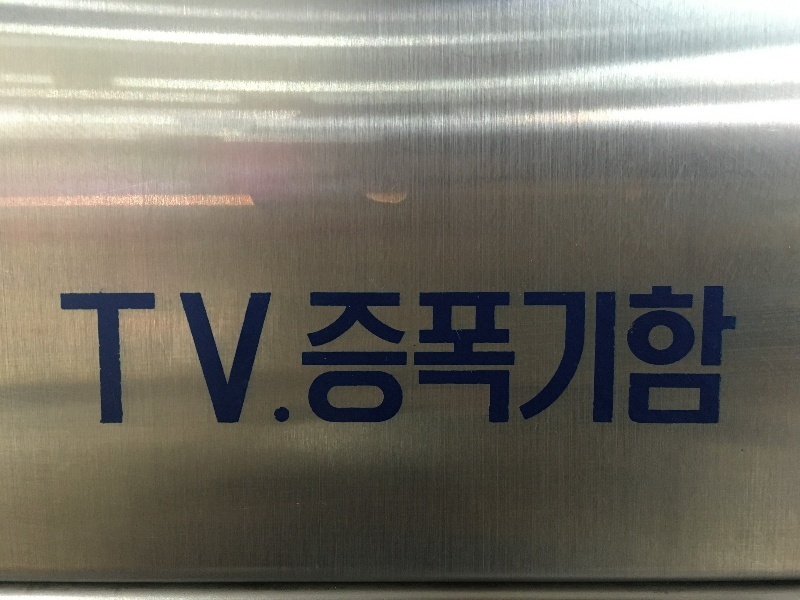text: (305, 281, 320, 429), (321, 281, 336, 429), (337, 281, 352, 429), (353, 281, 368, 429), (369, 281, 384, 429), (385, 281, 400, 429), (401, 281, 416, 429), (417, 281, 432, 429), (433, 281, 448, 429), (449, 281, 464, 429), (465, 281, 480, 429), (481, 281, 496, 429), (497, 281, 512, 429), (513, 281, 528, 429), (529, 281, 544, 429), (545, 281, 560, 429), (561, 281, 576, 429), (577, 281, 592, 429), (593, 281, 608, 429), (609, 281, 624, 429), (625, 281, 640, 429), (641, 281, 656, 429), (657, 281, 672, 429), (673, 281, 688, 429), (689, 281, 704, 429), (705, 281, 720, 429), (721, 281, 736, 429), (65, 289, 80, 428), (81, 289, 96, 428), (97, 289, 112, 428), (113, 289, 128, 428), (129, 289, 144, 428), (145, 289, 160, 428), (161, 289, 176, 428), (177, 289, 192, 428), (193, 289, 208, 428), (209, 289, 224, 428), (225, 289, 240, 428), (241, 289, 256, 428), (257, 289, 272, 428), (273, 289, 288, 428), (56, 289, 64, 428), (300, 281, 304, 429), (289, 289, 292, 428), (737, 281, 738, 429)
